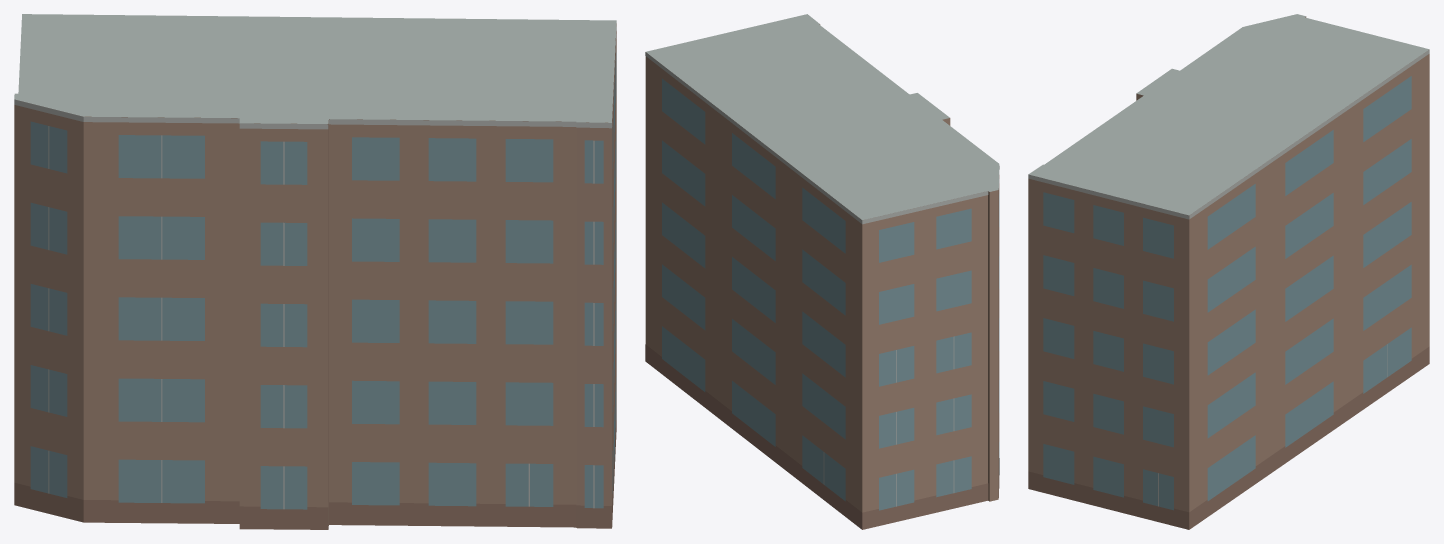
The model's file is survey-upis-33000266.glb.
3 renders of one model, left to right at view 1: azimuth 30°, elevation 25°; view 2: azimuth 150°, elevation 25°; view 3: azimuth 270°, elevation 25°, orthographic. The views are drawn at different scales.
Parts seen in each view (by area): view 1: survey-upis-33000266.tmp; view 2: survey-upis-33000266.tmp; view 3: survey-upis-33000266.tmp.
Part boxes in pixels (x1,y1,x2,y2): survey-upis-33000266.tmp: (14,14,616,529); survey-upis-33000266.tmp: (645,14,999,529); survey-upis-33000266.tmp: (1028,14,1429,529).
Bounding box in the file's own units: 25.43 × 18.51 × 21.42.
